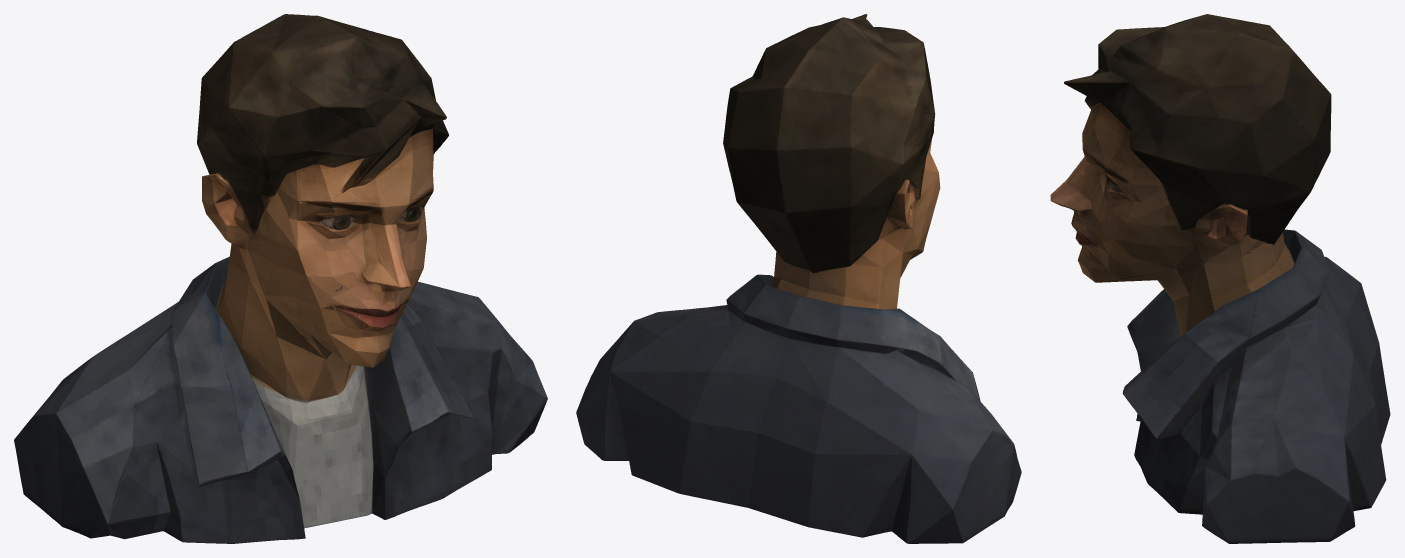
File: avatar.glb
3 renders of one model, left to right at view 1: azimuth 30°, elevation 25°; view 2: azimuth 150°, elevation 25°; view 3: azimuth 270°, elevation 25°, orthographic. The views are drawn at different scales.
Size of the model in its own units: 0.9798 by 0.9768 by 0.7093.
1 material, 1 textured.
